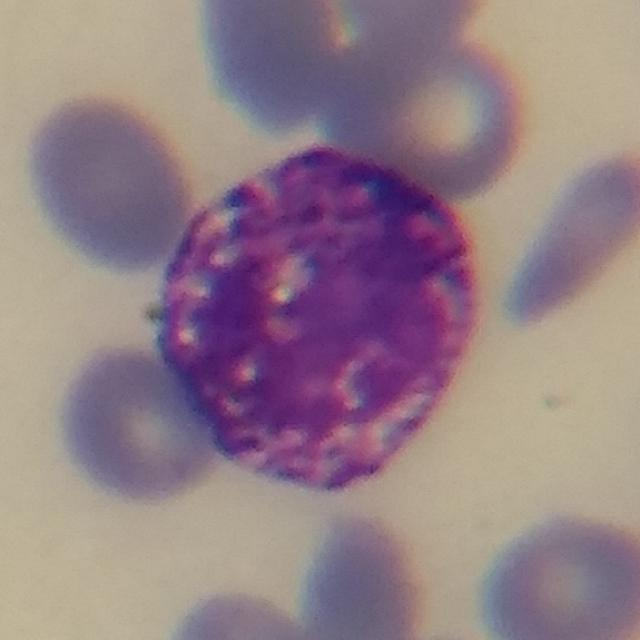baso: (146, 135, 497, 500)
